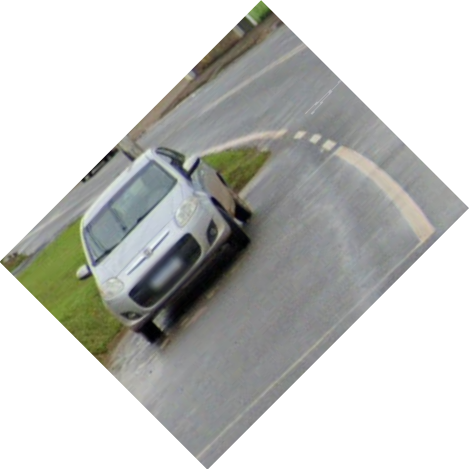car: (70, 141, 258, 346)
